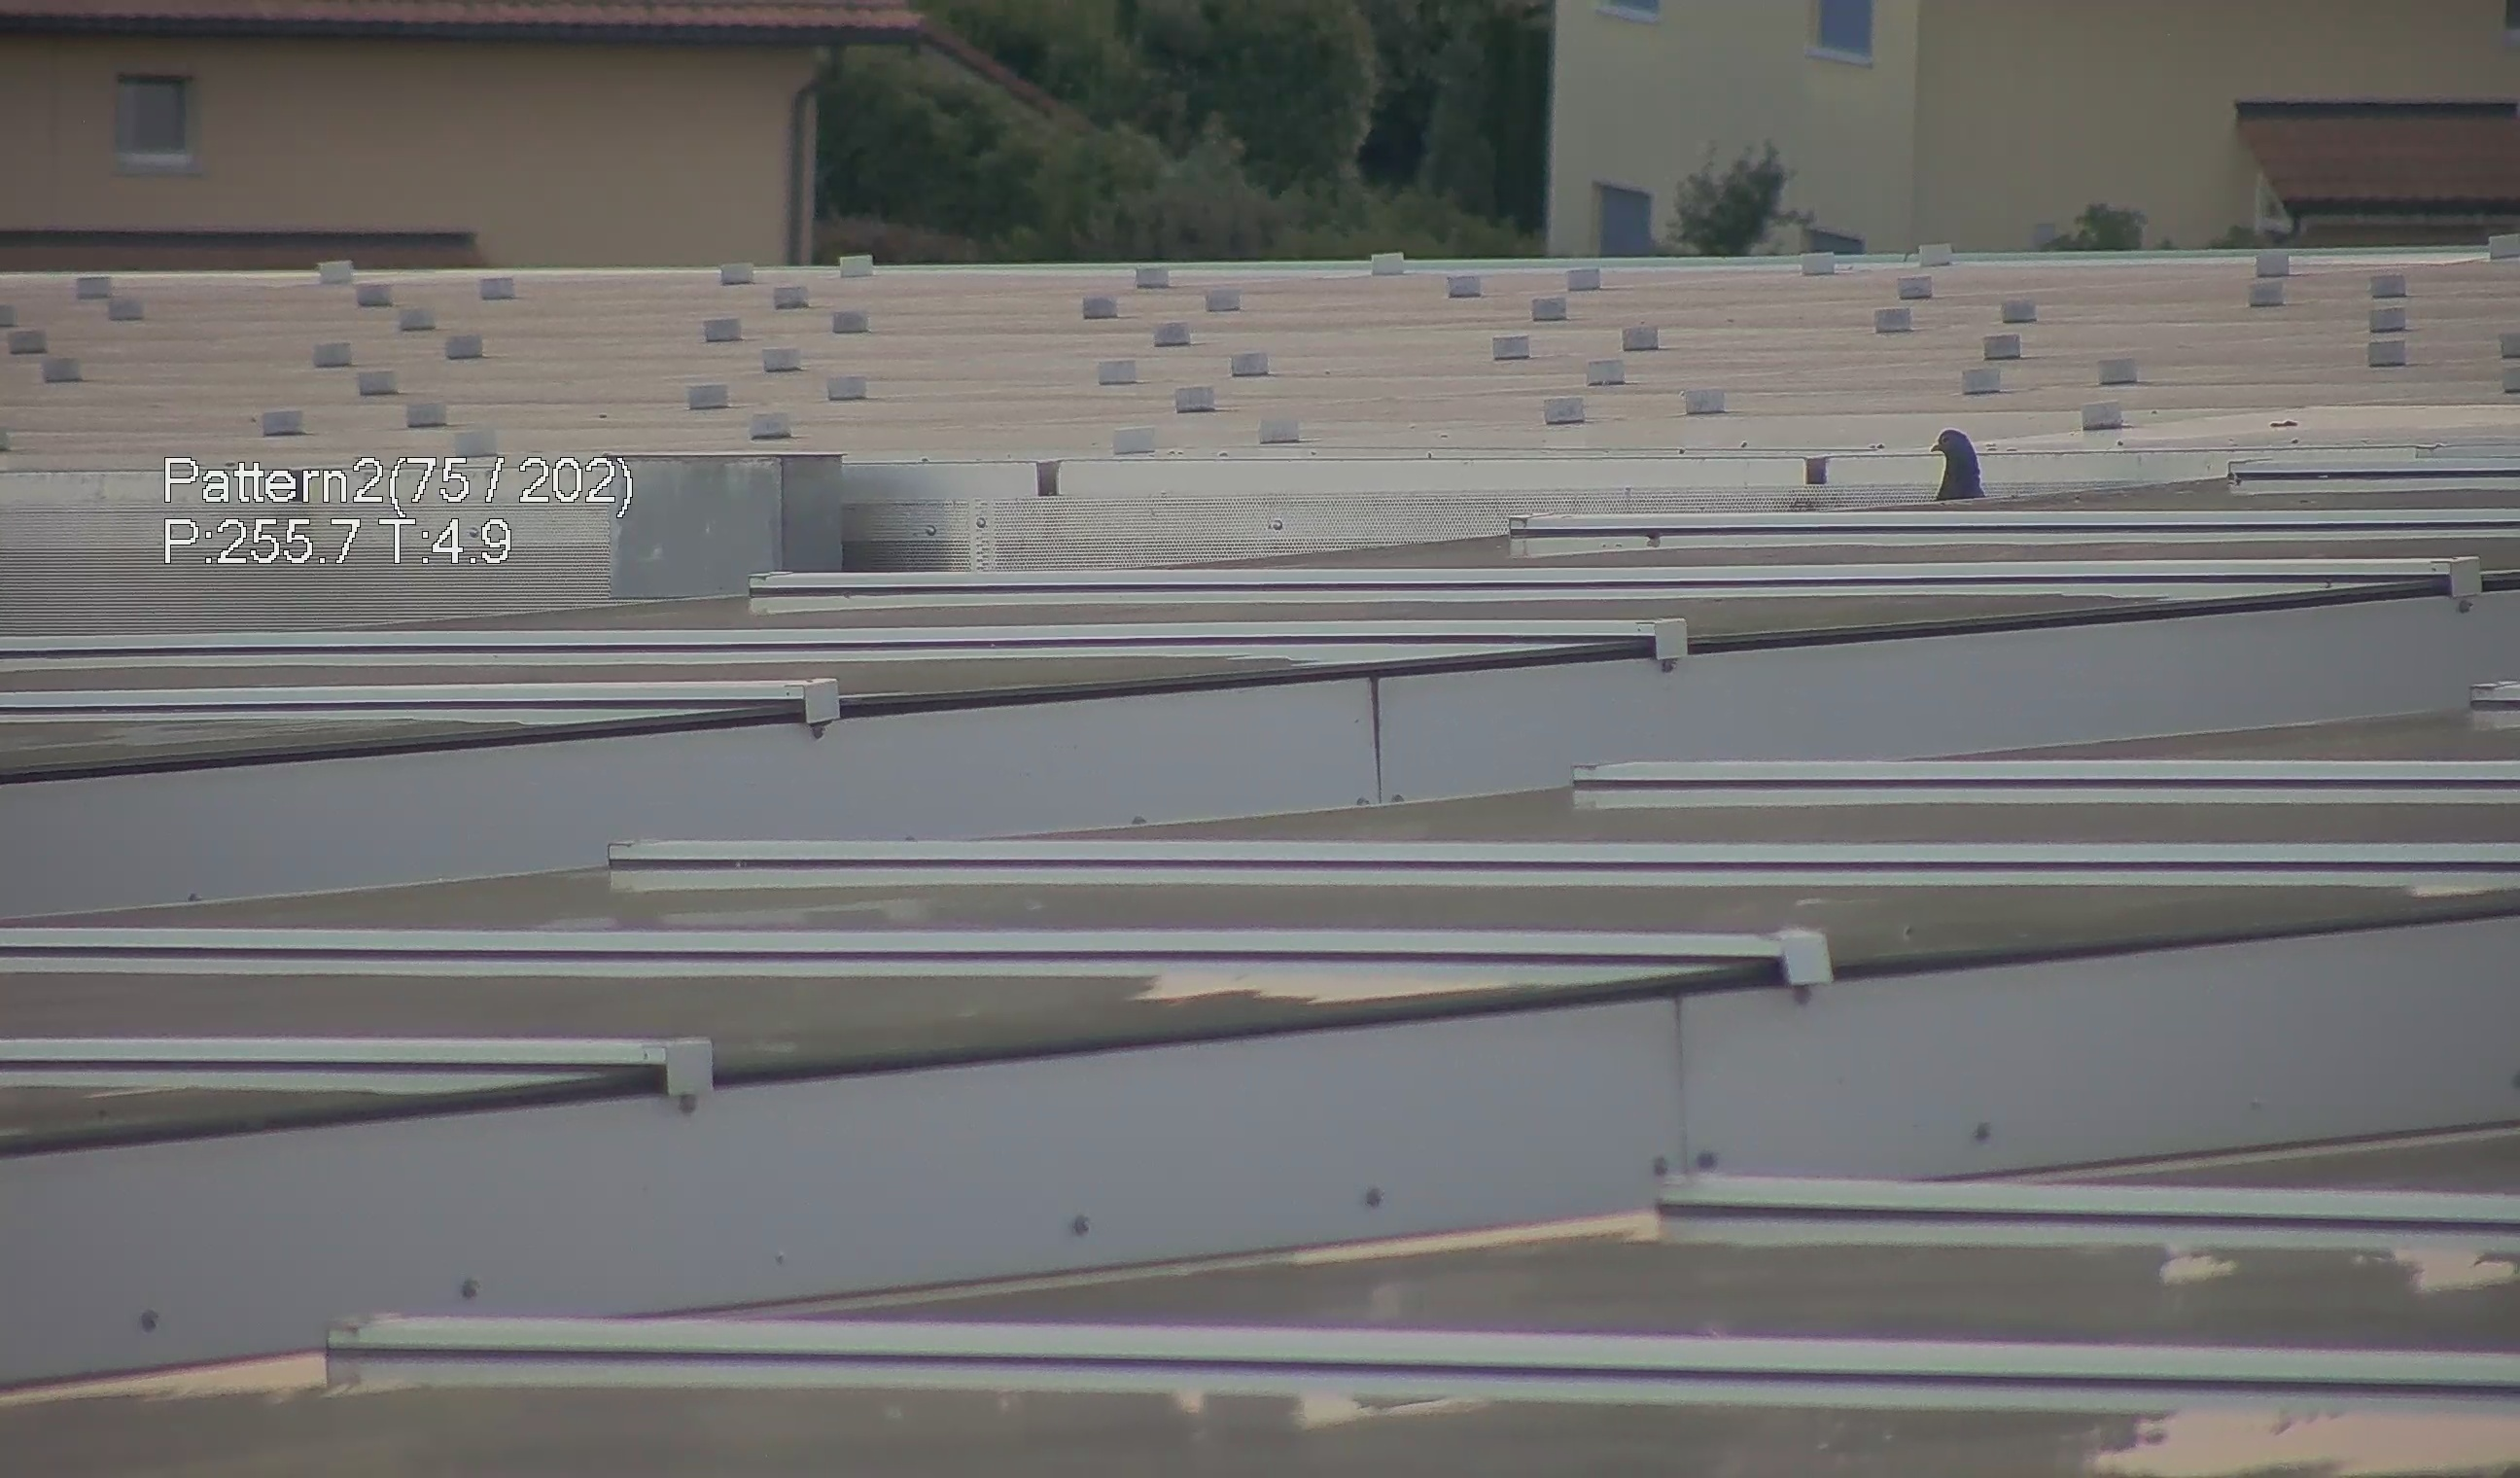Pigeon: (1933, 412, 1999, 500)
